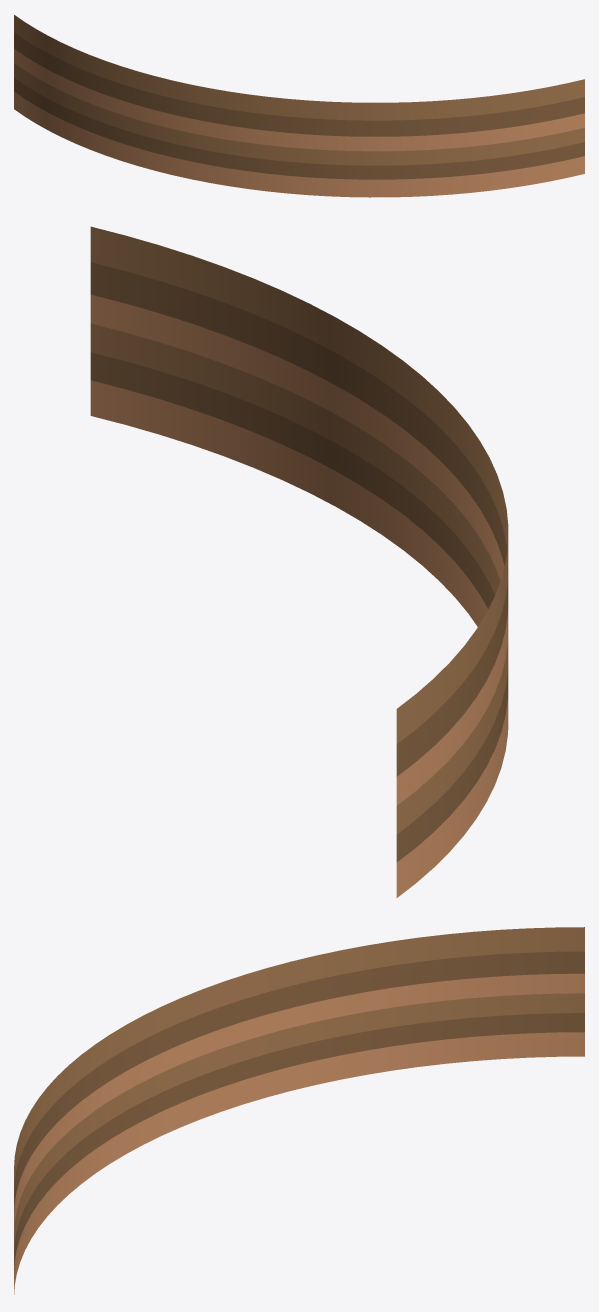
Rendered from platform_grass_corner_round4_center_tall.gltf.
3 views of the same model, one above another, from view 1: azimuth 30°, elevation 25°; view 2: azimuth 150°, elevation 25°; view 3: azimuth 270°, elevation 25° (orthographic). The views are drawn at different scales.
Parts seen in each view (by area): view 1: Cube_Grass_Corner_Round4Center_Tall; view 2: Cube_Grass_Corner_Round4Center_Tall; view 3: Cube_Grass_Corner_Round4Center_Tall.
Boxes of the visible parts, box(x1,y1,x2,y2) form: Cube_Grass_Corner_Round4Center_Tall: box(14, 15, 584, 197); Cube_Grass_Corner_Round4Center_Tall: box(90, 226, 508, 897); Cube_Grass_Corner_Round4Center_Tall: box(14, 927, 584, 1294).
Bounding box in the file's own units: 8 × 2 × 8.
